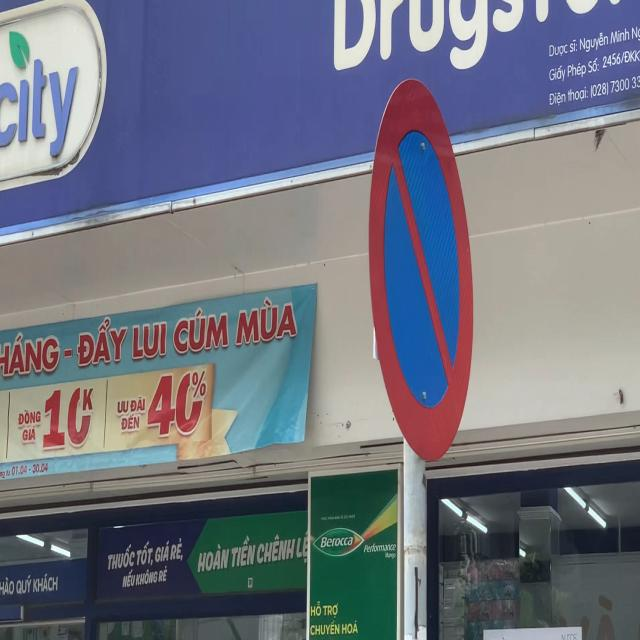Cam do: (368, 76, 475, 465)
